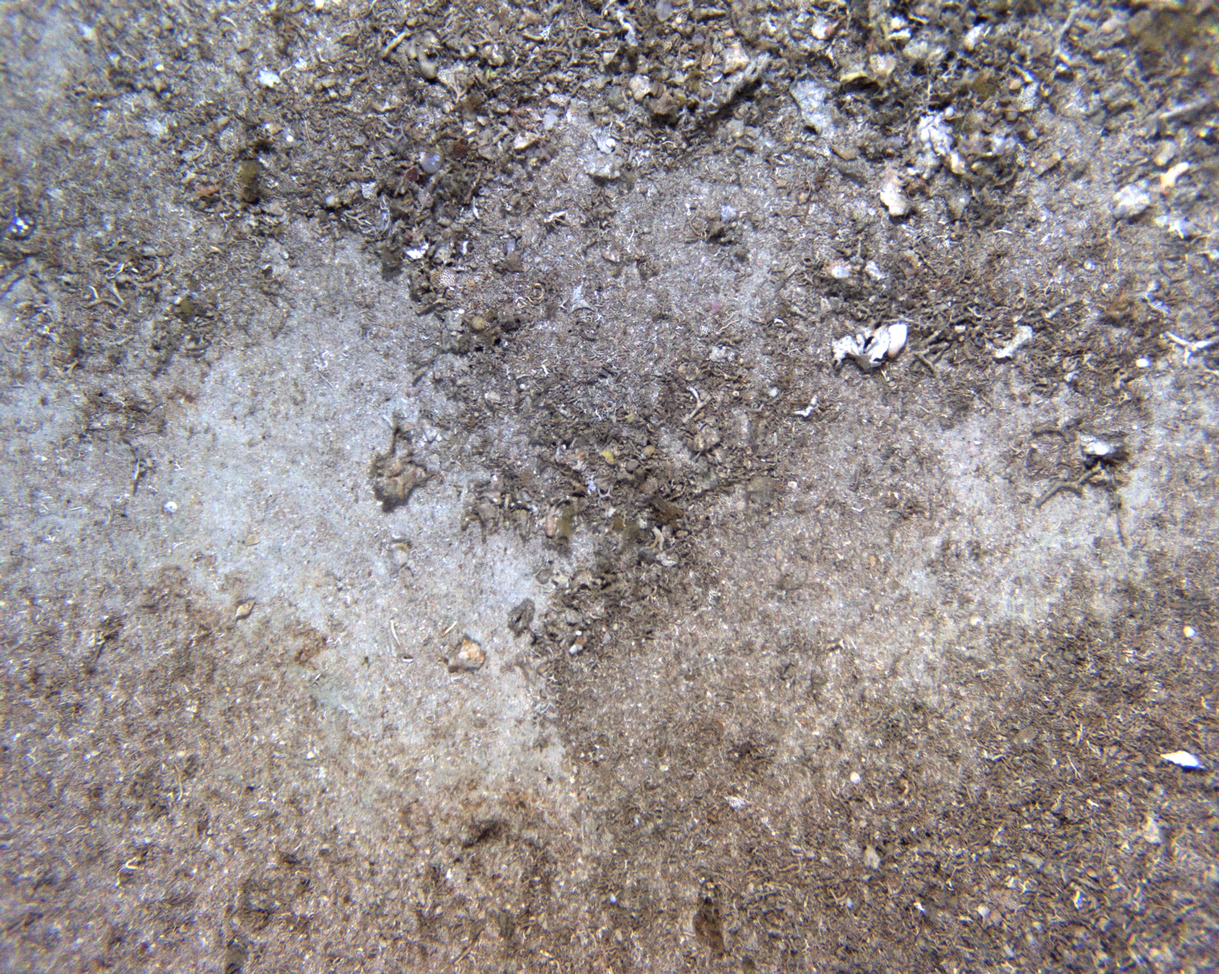Brachionichthyidae: (537, 495, 569, 539)
